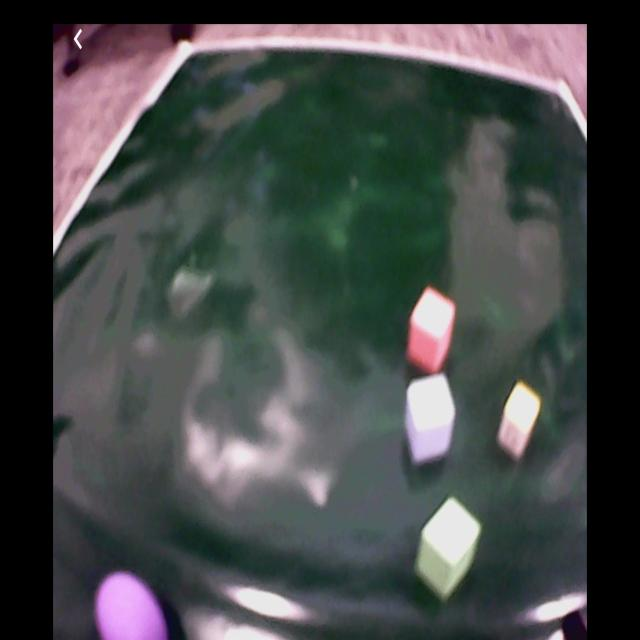ball: (94, 573, 170, 640)
